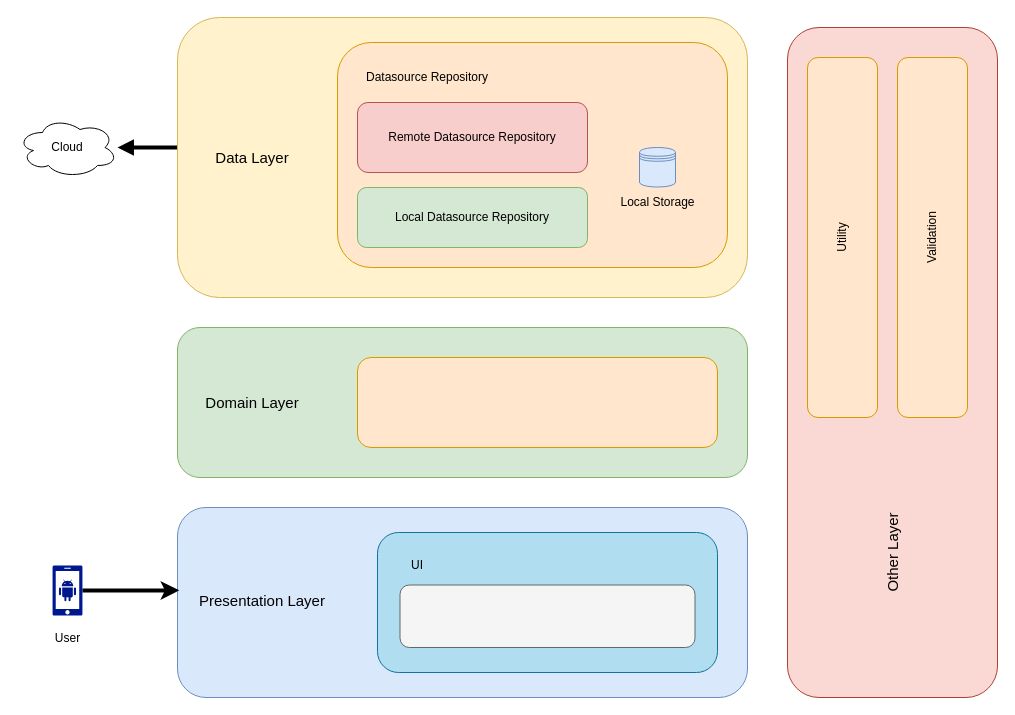
The diagram is 1015 pixels wide and 715 high, and some of its shapes have lost their labels. The shapes that lost their labels are listed below. From the top down, each one's centre as x and y in pixels, then its label:
At (x=537, y=402): "Feature UseCase".
At (x=547, y=616): "Reactive Class".
